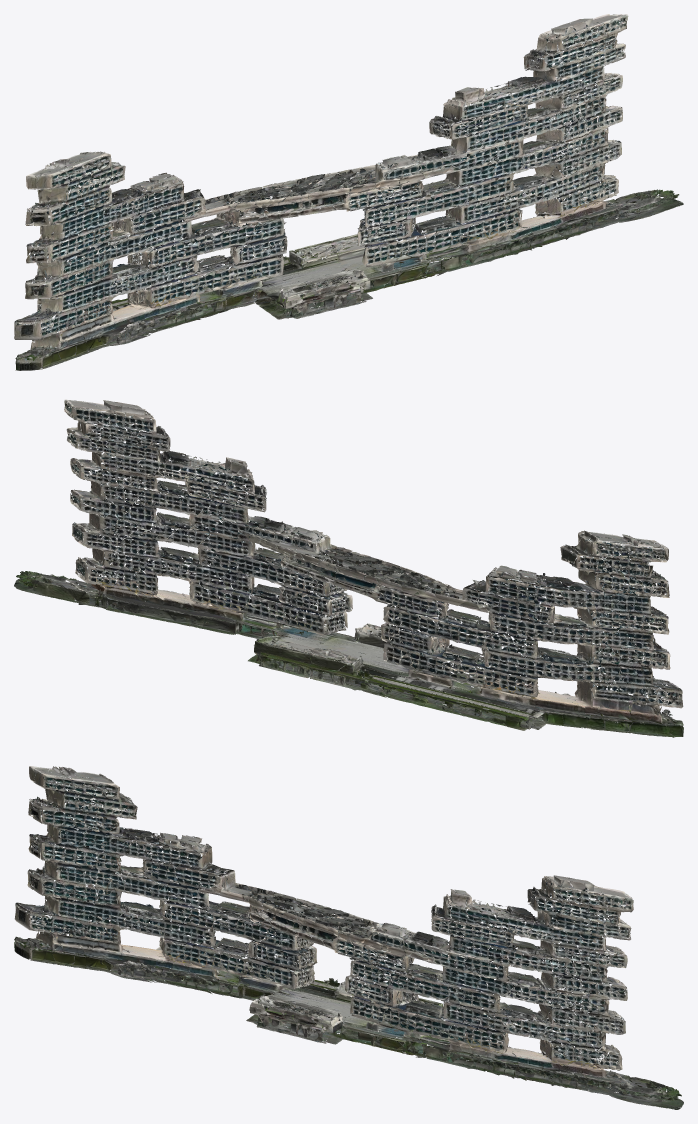
Rendered from royal-atlantis.glb.
The picture shows the model from 3 angles, top to bottom: view 1: azimuth 30°, elevation 25°; view 2: azimuth 150°, elevation 25°; view 3: azimuth 330°, elevation 25°; orthographic projection.
Parts seen in each view (by area): view 1: Mesh_0; view 2: Mesh_0; view 3: Mesh_0.
Boxes of the visible parts, bbox=[...] form: Mesh_0: bbox=[14, 14, 683, 370]; Mesh_0: bbox=[14, 399, 683, 737]; Mesh_0: bbox=[14, 766, 683, 1109].
Bounding box in the file's own units: 600 × 178 × 79.98.
Materials: 1 (1 with a texture image).
